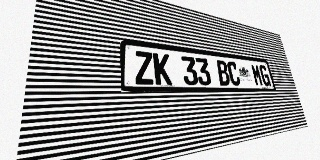3: (181, 56, 199, 85), (195, 57, 212, 85)
B: (215, 60, 231, 86)
C: (226, 61, 241, 86)
G: (258, 65, 271, 86)
K: (153, 53, 172, 85)
M: (250, 64, 264, 86)
Z: (134, 50, 155, 85)
